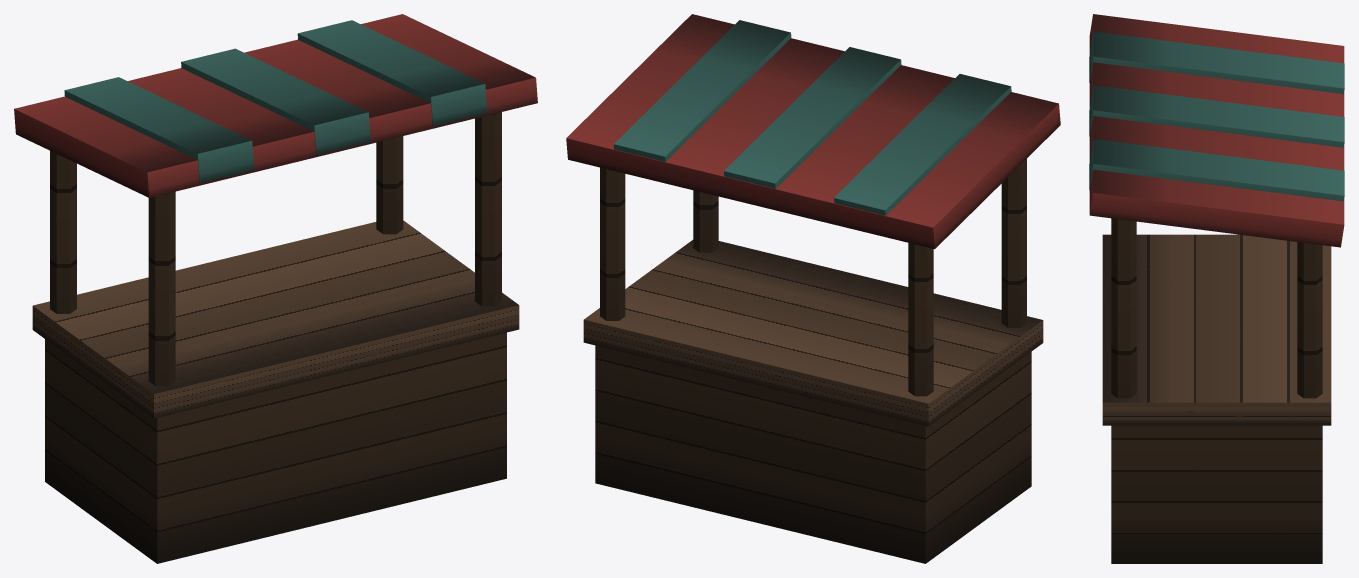
File: market_stall.gltf
3 renders of one model, left to right at view 1: azimuth 30°, elevation 25°; view 2: azimuth 150°, elevation 25°; view 3: azimuth 270°, elevation 25°, orthographic. The views are drawn at different scales.
Visible parts, largest first — view 1: market_stall; view 2: market_stall; view 3: market_stall.
Boxes of the visible parts, <box> form: market_stall: <box>14,14,537,563</box>; market_stall: <box>566,14,1060,563</box>; market_stall: <box>1089,14,1344,563</box>.
Size of the model in its own units: 1 by 1.01 by 0.6039.
Materials: 1 (1 with a texture image).
